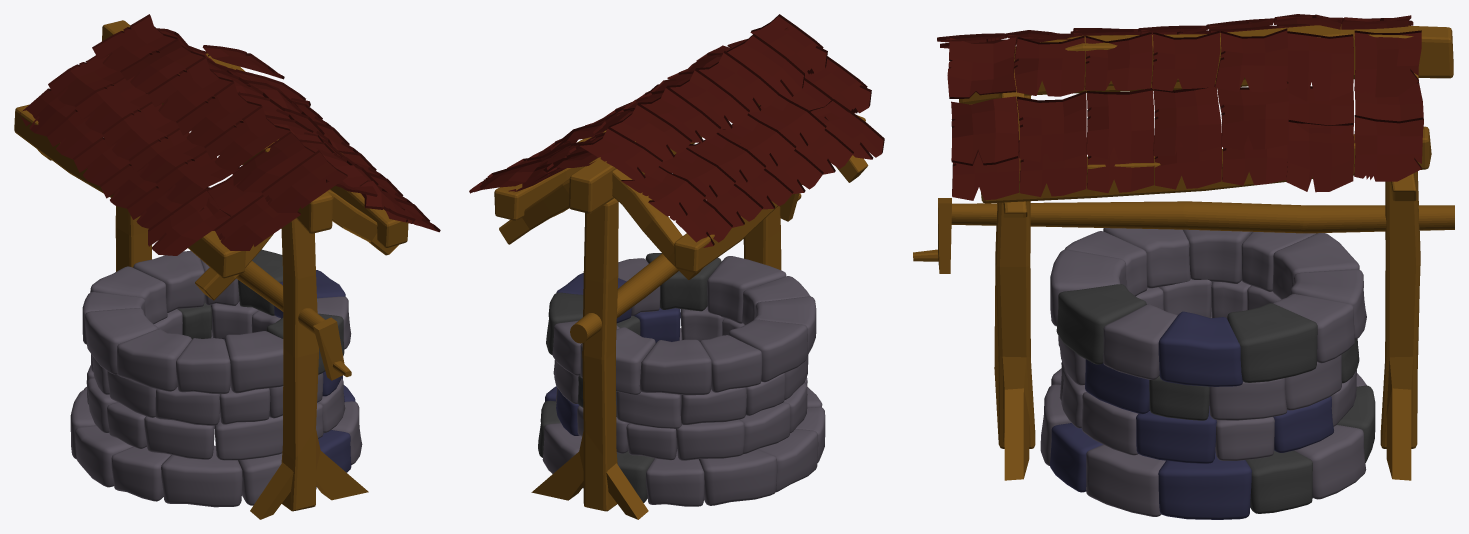
Rendered from WaterWell.glb.
3 renders of one model, left to right at view 1: azimuth 30°, elevation 25°; view 2: azimuth 150°, elevation 25°; view 3: azimuth 270°, elevation 25°, orthographic. The views are drawn at different scales.
Visible parts, largest first — view 1: Cube, Plane.001, Cube.003, Plane.004, Cube.004, Cube.001, Cylinder, Cube.002, Cube.005; view 2: Cube, Plane.001, Cube.002, Cube.004, Plane.004, Cylinder, Cube.001, Cube.005, Cube.003; view 3: Cube, Plane.004, Cylinder, Cube.002, Cube.003, Cube.004, Plane.001, Cube.005.
Part boxes in pixels (left/top/right/bottom): Cube: left=70, top=249, right=362, bottom=507; Plane.001: left=19, top=14, right=347, bottom=255; Cube.003: left=250, top=218, right=368, bottom=519; Plane.004: left=157, top=28, right=440, bottom=232; Cube.004: left=37, top=20, right=398, bottom=300; Cube.001: left=14, top=104, right=245, bottom=278; Cylinder: left=236, top=261, right=351, bottom=380; Cube.002: left=115, top=206, right=151, bottom=271; Cube.005: left=206, top=53, right=408, bottom=247; Cube: left=538, top=253, right=825, bottom=506; Plane.001: left=579, top=14, right=884, bottom=247; Cube.002: left=531, top=198, right=648, bottom=519; Cube.004: left=499, top=136, right=868, bottom=279; Plane.004: left=469, top=27, right=788, bottom=193; Cylinder: left=570, top=193, right=801, bottom=343; Cube.001: left=674, top=115, right=865, bottom=272; Cube.005: left=494, top=130, right=606, bottom=220; Cube.003: left=743, top=103, right=781, bottom=269; Cube: left=1040, top=228, right=1375, bottom=519; Plane.004: left=947, top=28, right=1423, bottom=200; Cylinder: left=913, top=198, right=1454, bottom=273; Cube.002: left=1380, top=171, right=1420, bottom=480; Cube.003: left=994, top=95, right=1035, bottom=480; Cube.004: left=959, top=24, right=1453, bottom=217; Plane.001: left=937, top=14, right=1413, bottom=48; Cube.005: left=981, top=126, right=1431, bottom=203.
Bounding box in the file's own units: 9.98 × 13.28 × 14.89.
